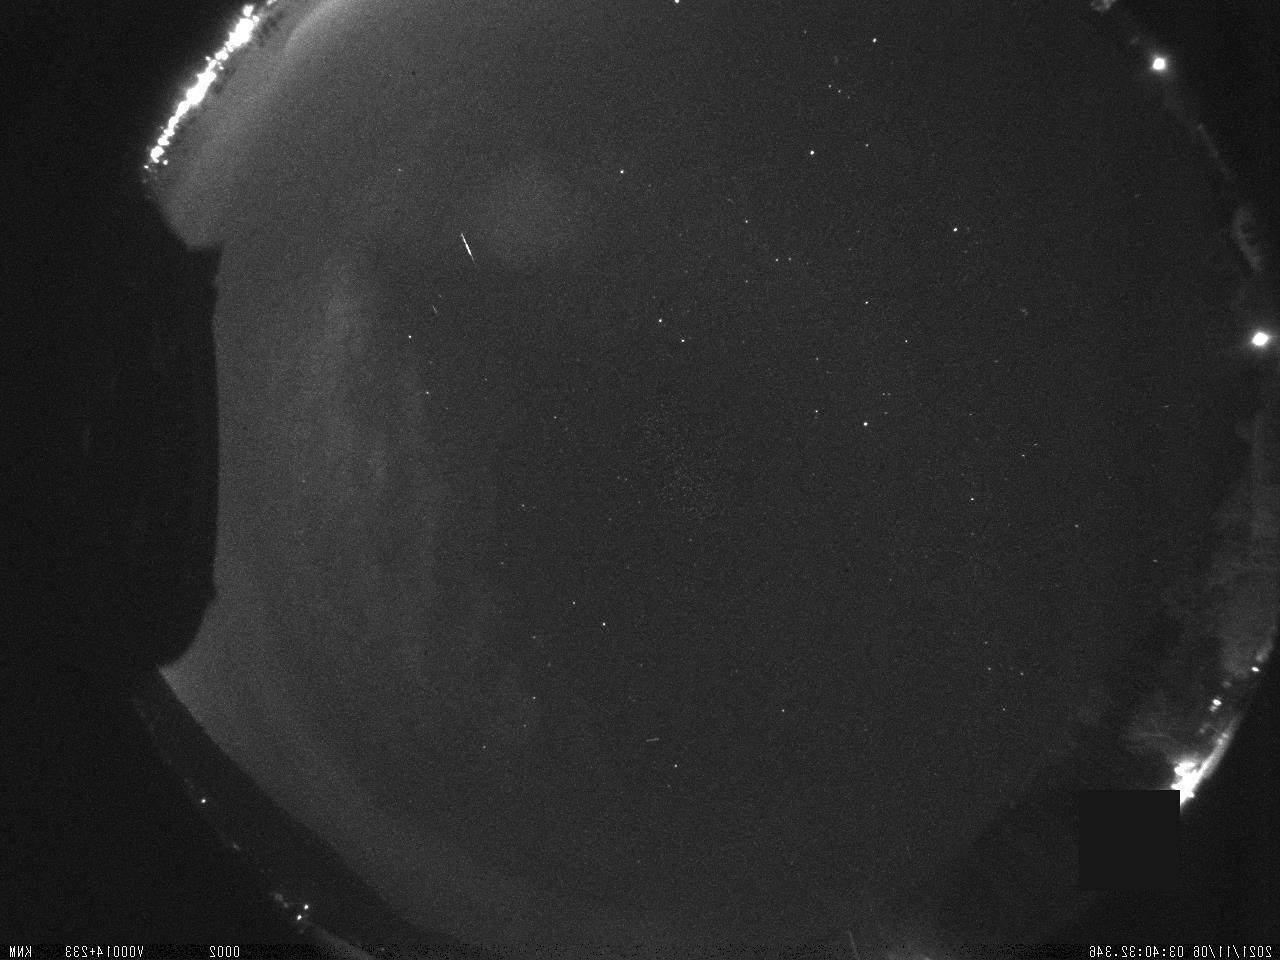meteor: (435, 215, 479, 272)
